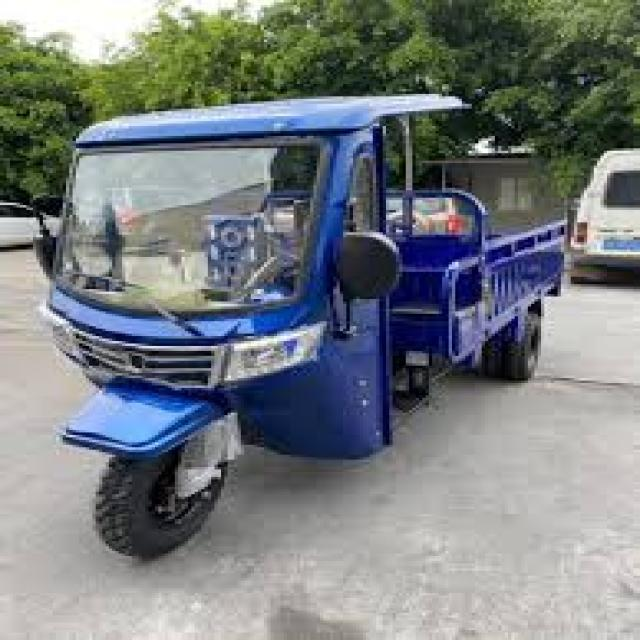tuktuk: (6, 13, 612, 603)
